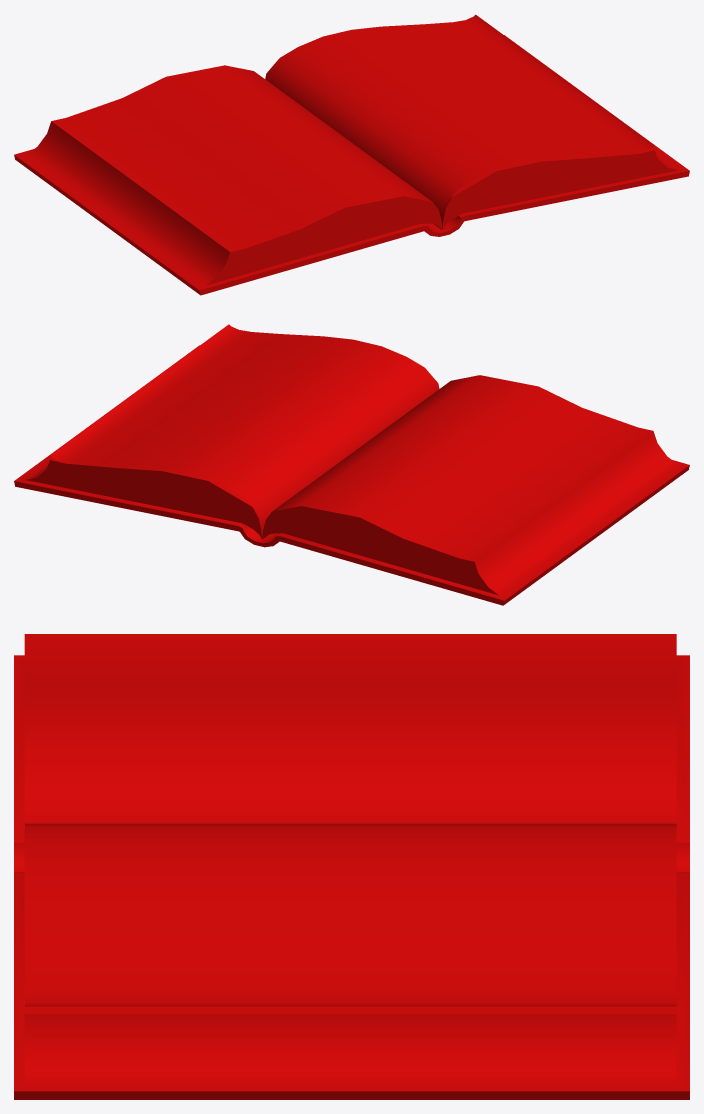
File: Attic_BookOpen01_01_LP.glb
3 views of the same model, one above another, from view 1: azimuth 30°, elevation 25°; view 2: azimuth 150°, elevation 25°; view 3: azimuth 270°, elevation 25° (orthographic). The views are drawn at different scales.
Parts seen in each view (by area): view 1: Attic_BookOpen01_01_LP; view 2: Attic_BookOpen01_01_LP; view 3: Attic_BookOpen01_01_LP.
Boxes of the visible parts, x1=… form: Attic_BookOpen01_01_LP: x1=14, y1=14, x2=689, y2=295; Attic_BookOpen01_01_LP: x1=14, y1=324, x2=689, y2=605; Attic_BookOpen01_01_LP: x1=14, y1=634, x2=689, y2=1099.
Bounding box in the file's own units: 0.3435 × 0.0346 × 0.2251.
